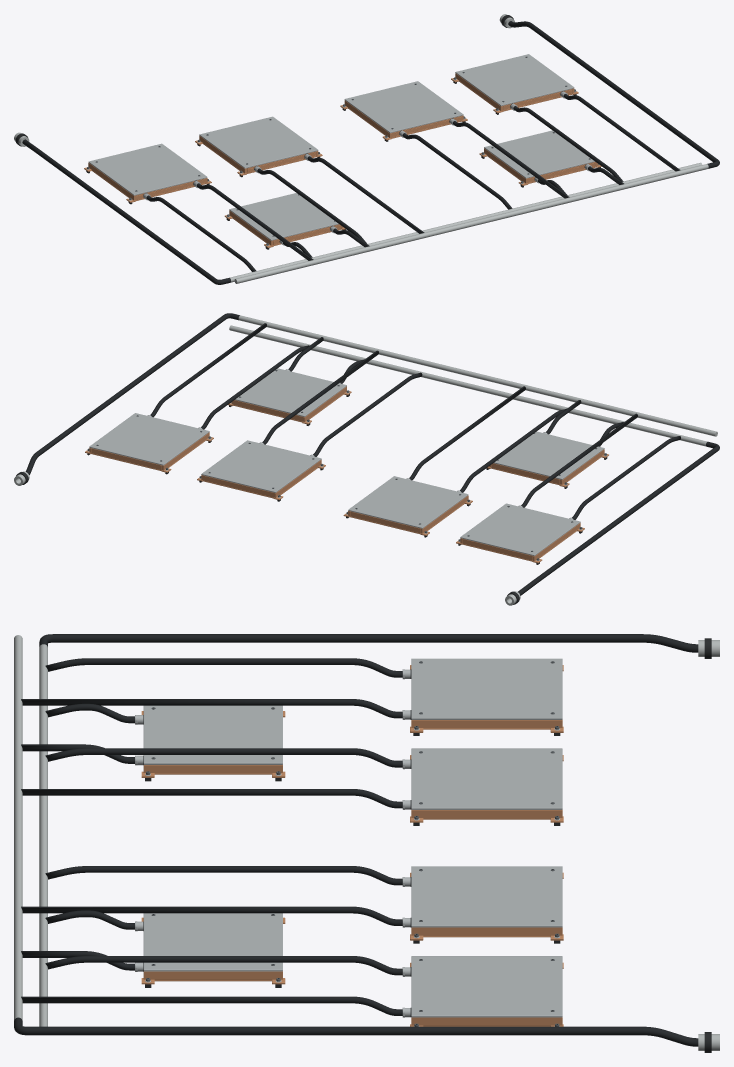
Rendered from cooling-assembly.glb.
3 renders of one model, top to bottom at view 1: azimuth 30°, elevation 25°; view 2: azimuth 150°, elevation 25°; view 3: azimuth 270°, elevation 25°, orthographic. The views are drawn at different scales.
Parts seen in each view (by area): view 1: Cooling V1 / cooling-plumbing / return, Cooling V1 / cooling / GPU-L-INNER, Cooling V1 / cooling / GPU-L-OUTER, Cooling V1 / cooling / GPU-R-INNER, Cooling V1 / cooling / GPU-R-OUTER, Cooling V1 / cooling-plumbing / supply, Cooling V1 / cooling / CPU-R, Cooling V1 / cooling / CPU-L, Cooling V1 / cooling-plumbing / GPU-L-OUTER, Cooling V1 / cooling-plumbing / GPU-R-INNER, Cooling V1 / cooling-plumbing / GPU-R-OUTER, Cooling V1 / cooling-plumbing / GPU-L-INNER (+6 smaller); view 2: Cooling V1 / cooling-plumbing / return, Cooling V1 / cooling-plumbing / supply, Cooling V1 / cooling / GPU-L-INNER, Cooling V1 / cooling / GPU-R-OUTER, Cooling V1 / cooling / GPU-L-OUTER, Cooling V1 / cooling / GPU-R-INNER, Cooling V1 / cooling / CPU-R, Cooling V1 / cooling / CPU-L, Cooling V1 / cooling-plumbing / GPU-R-INNER, Cooling V1 / cooling-plumbing / GPU-L-OUTER, Cooling V1 / cooling-plumbing / GPU-R-OUTER, Cooling V1 / cooling-plumbing / GPU-L-INNER (+6 smaller); view 3: Cooling V1 / cooling-plumbing / return, Cooling V1 / cooling-plumbing / supply, Cooling V1 / cooling / GPU-L-OUTER, Cooling V1 / cooling / GPU-L-INNER, Cooling V1 / cooling / GPU-R-INNER, Cooling V1 / cooling / GPU-R-OUTER, Cooling V1 / cooling / CPU-L, Cooling V1 / cooling / CPU-R, Cooling V1 / cooling-plumbing / GPU-R-OUTER, Cooling V1 / cooling-plumbing / GPU-R-INNER, Cooling V1 / cooling-plumbing / GPU-L-INNER, Cooling V1 / cooling-plumbing / GPU-L-OUTER (+8 smaller).
Part boxes in pixels (left/top/right/bottom): Cooling V1 / cooling-plumbing / return: left=234, top=14, right=719, bottom=283; Cooling V1 / cooling / GPU-L-INNER: left=199, top=116, right=318, bottom=168; Cooling V1 / cooling / GPU-L-OUTER: left=88, top=143, right=207, bottom=195; Cooling V1 / cooling / GPU-R-INNER: left=344, top=81, right=463, bottom=133; Cooling V1 / cooling / GPU-R-OUTER: left=455, top=54, right=574, bottom=106; Cooling V1 / cooling-plumbing / supply: left=14, top=132, right=702, bottom=284; Cooling V1 / cooling / CPU-R: left=484, top=130, right=594, bottom=178; Cooling V1 / cooling / CPU-L: left=229, top=193, right=338, bottom=240; Cooling V1 / cooling-plumbing / GPU-L-OUTER: left=146, top=183, right=313, bottom=271; Cooling V1 / cooling-plumbing / GPU-R-INNER: left=402, top=121, right=569, bottom=209; Cooling V1 / cooling-plumbing / GPU-R-OUTER: left=513, top=94, right=680, bottom=181; Cooling V1 / cooling-plumbing / GPU-L-INNER: left=257, top=156, right=424, bottom=243; Cooling V1 / cooling-plumbing / return: left=14, top=313, right=717, bottom=485; Cooling V1 / cooling-plumbing / supply: left=229, top=325, right=719, bottom=605; Cooling V1 / cooling / GPU-L-INNER: left=348, top=476, right=468, bottom=528; Cooling V1 / cooling / GPU-R-OUTER: left=89, top=413, right=209, bottom=465; Cooling V1 / cooling / GPU-L-OUTER: left=460, top=503, right=580, bottom=556; Cooling V1 / cooling / GPU-R-INNER: left=201, top=440, right=321, bottom=492; Cooling V1 / cooling / CPU-R: left=235, top=368, right=346, bottom=416; Cooling V1 / cooling / CPU-L: left=493, top=431, right=604, bottom=479; Cooling V1 / cooling-plumbing / GPU-R-INNER: left=262, top=350, right=422, bottom=456; Cooling V1 / cooling-plumbing / GPU-L-OUTER: left=521, top=413, right=680, bottom=519; Cooling V1 / cooling-plumbing / GPU-R-OUTER: left=150, top=323, right=309, bottom=429; Cooling V1 / cooling-plumbing / GPU-L-INNER: left=409, top=386, right=566, bottom=492; Cooling V1 / cooling-plumbing / return: left=14, top=635, right=719, bottom=1052; Cooling V1 / cooling-plumbing / supply: left=39, top=634, right=719, bottom=1026; Cooling V1 / cooling / GPU-L-OUTER: left=411, top=658, right=562, bottom=719; Cooling V1 / cooling / GPU-L-INNER: left=411, top=748, right=562, bottom=809; Cooling V1 / cooling / GPU-R-INNER: left=411, top=866, right=562, bottom=927; Cooling V1 / cooling / GPU-R-OUTER: left=411, top=956, right=562, bottom=1017; Cooling V1 / cooling / CPU-L: left=143, top=705, right=282, bottom=764; Cooling V1 / cooling / CPU-R: left=143, top=913, right=282, bottom=971; Cooling V1 / cooling-plumbing / GPU-R-OUTER: left=21, top=956, right=402, bottom=1015; Cooling V1 / cooling-plumbing / GPU-R-INNER: left=21, top=866, right=402, bottom=925; Cooling V1 / cooling-plumbing / GPU-L-INNER: left=21, top=748, right=402, bottom=808; Cooling V1 / cooling-plumbing / GPU-L-OUTER: left=21, top=658, right=402, bottom=718.
Size of the model in its own units: 3.77 by 0.122 by 2.79.
